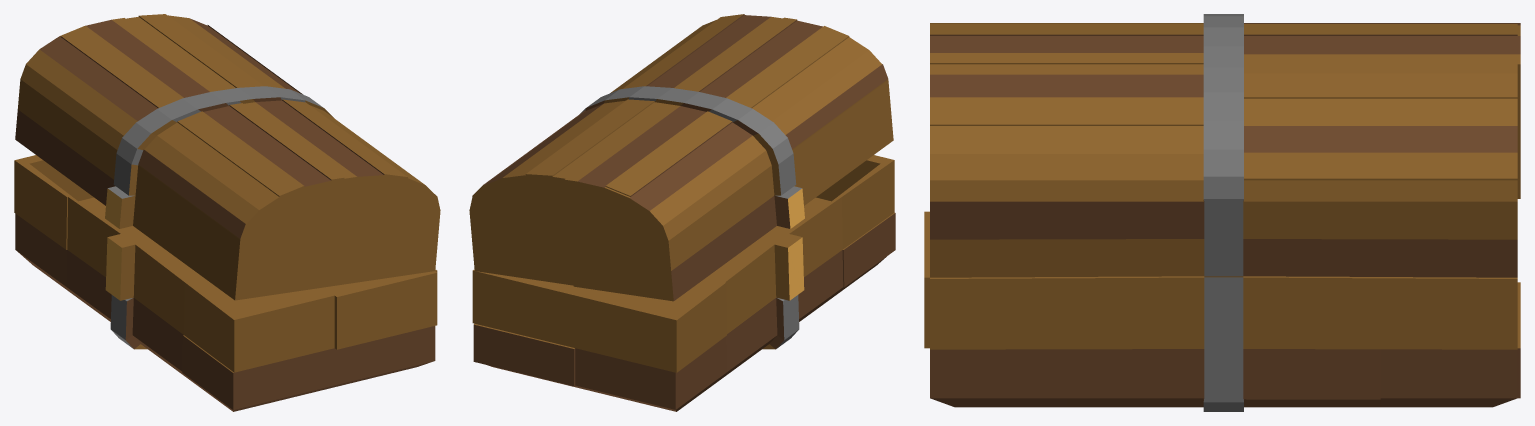
File: Chest.glb
3 renders of one model, left to right at view 1: azimuth 30°, elevation 25°; view 2: azimuth 150°, elevation 25°; view 3: azimuth 270°, elevation 25°, orthographic. The views are drawn at different scales.
Visible parts, largest first — view 1: Chest; view 2: Chest; view 3: Chest.
Boxes of the visible parts, x1,y1,x2,y2 form: Chest: [14, 14, 440, 411]; Chest: [469, 14, 895, 411]; Chest: [924, 14, 1520, 411].
Size of the model in its own units: 2.18 by 2.18 by 3.83.
